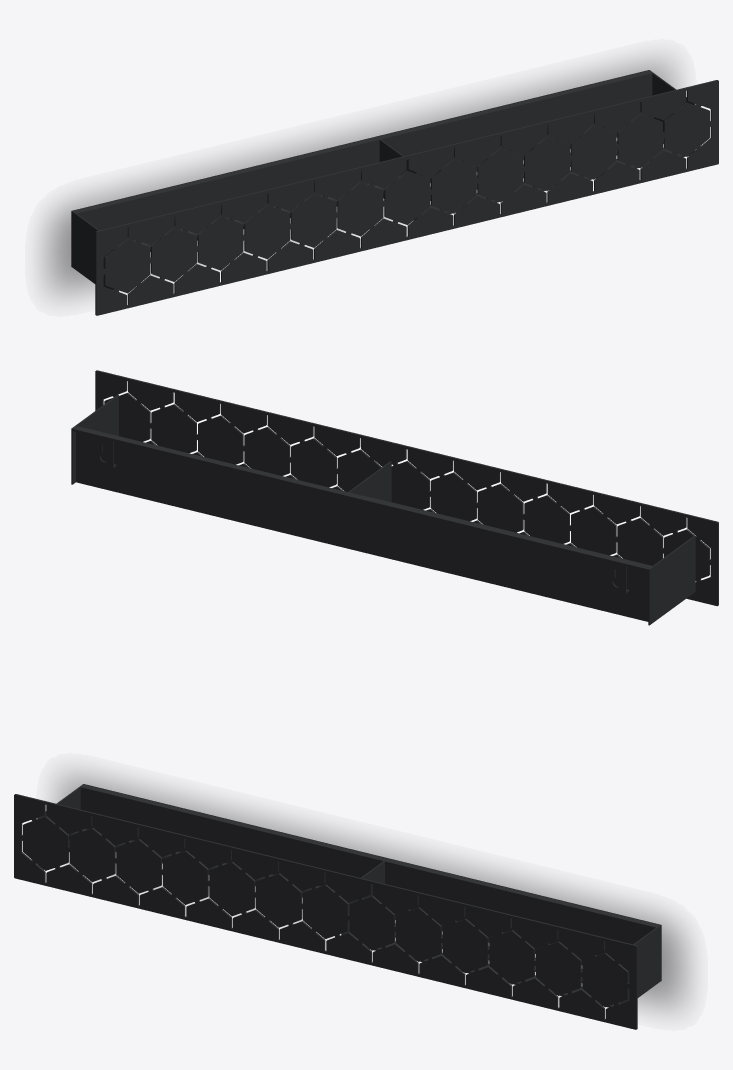
File: bee-double.b69d7e91f9.ar.glb
The picture shows the model from 3 angles, top to bottom: view 1: azimuth 30°, elevation 25°; view 2: azimuth 150°, elevation 25°; view 3: azimuth 330°, elevation 25°; orthographic projection.
Parts seen in each view (by area): view 1: NAUO1, object 3; view 2: NAUO1, NAUO4; view 3: NAUO1, object 3.
Boxes of the visible parts, x1,y1,x2,y2 form: NAUO1: (71,70,718,315); object 3: (42,59,678,296); NAUO1: (71,370,718,625); NAUO4: (95,436,629,593); NAUO1: (14,784,661,1029); object 3: (54,773,690,1010).
Bounding box in the file's own units: 0.78 × 0.17 × 0.092.
2 materials, 1 textured.
